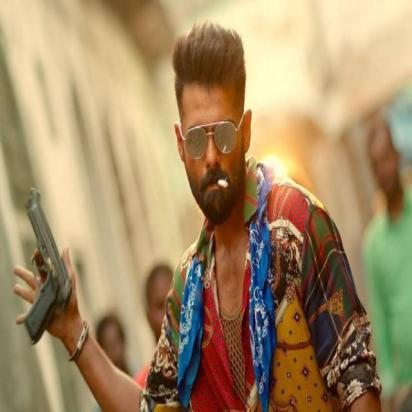Gun: (19, 181, 77, 351)
